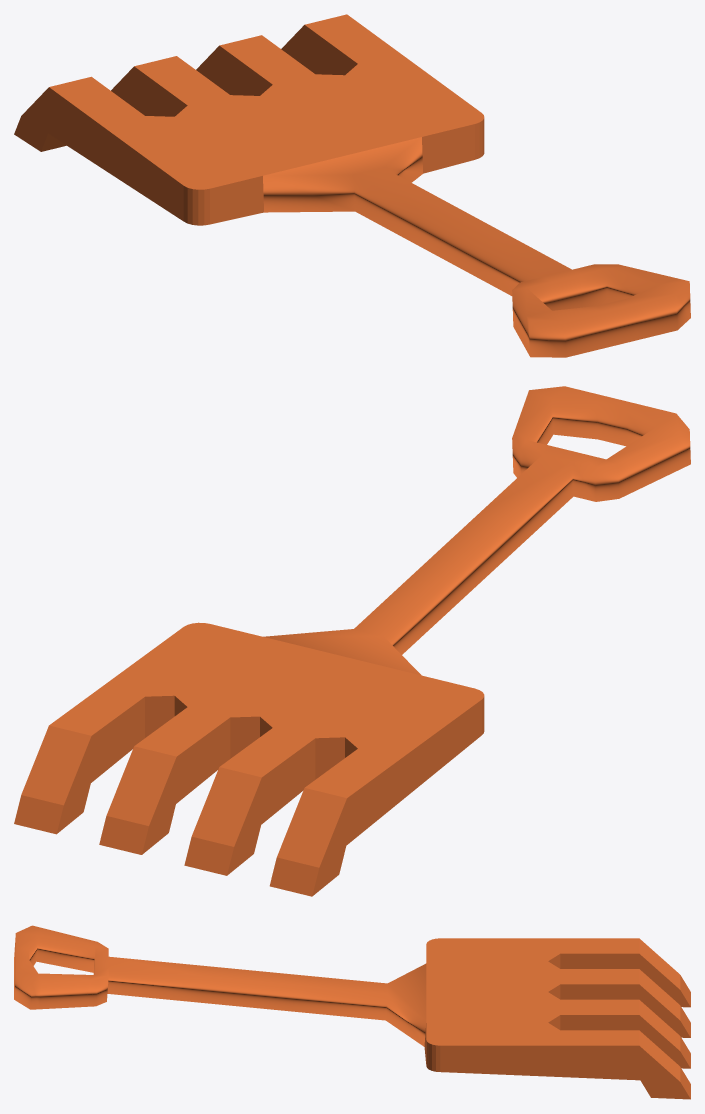
The model's file is Sand Rake.fbx.
3 views of the same model, one above another, from view 1: azimuth 30°, elevation 25°; view 2: azimuth 150°, elevation 25°; view 3: azimuth 270°, elevation 25° (orthographic). The views are drawn at different scales.
Visible parts, largest first — view 1: Sand Shovel.001; view 2: Sand Shovel.001; view 3: Sand Shovel.001.
Part boxes in pixels (x1,y1,x2,y2): Sand Shovel.001: [14, 14, 690, 357]; Sand Shovel.001: [14, 386, 690, 896]; Sand Shovel.001: [14, 925, 690, 1099].
Bounding box in the file's own units: 108 × 43.34 × 287.
